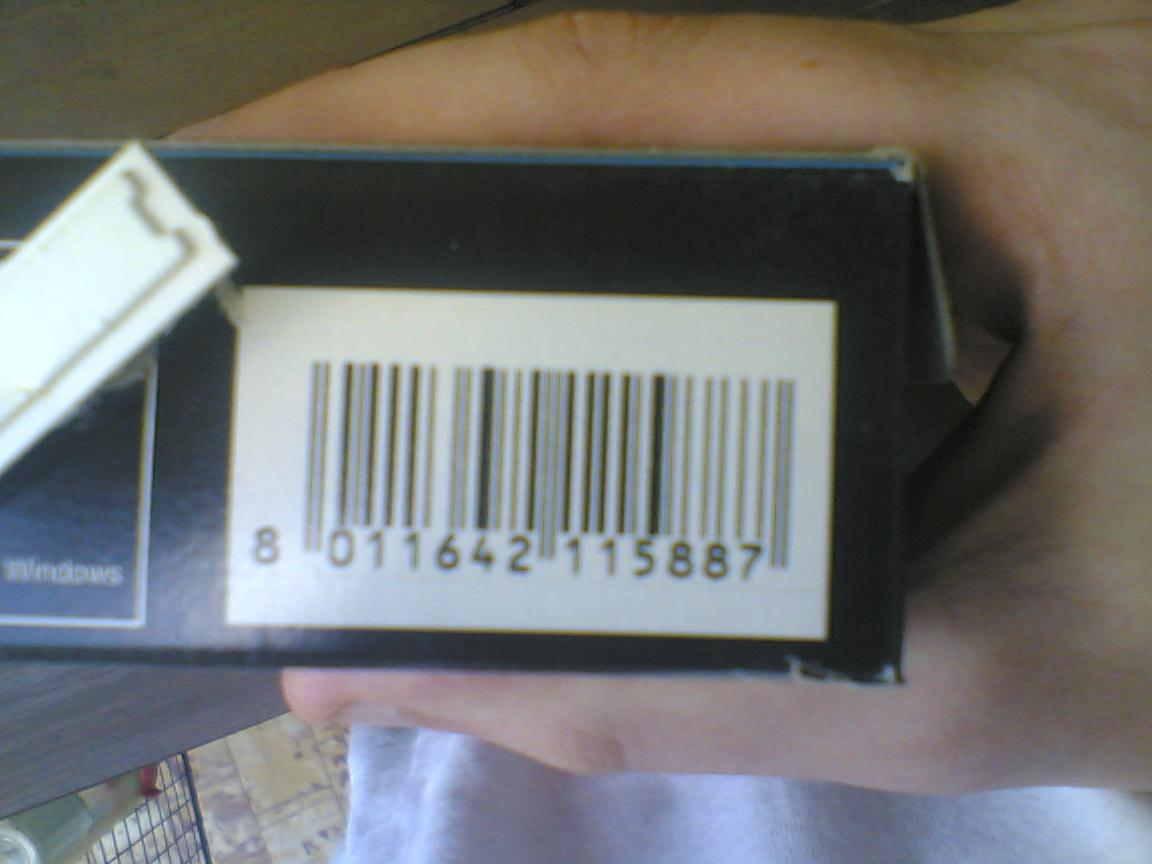Barcode: (240, 290, 818, 628)
